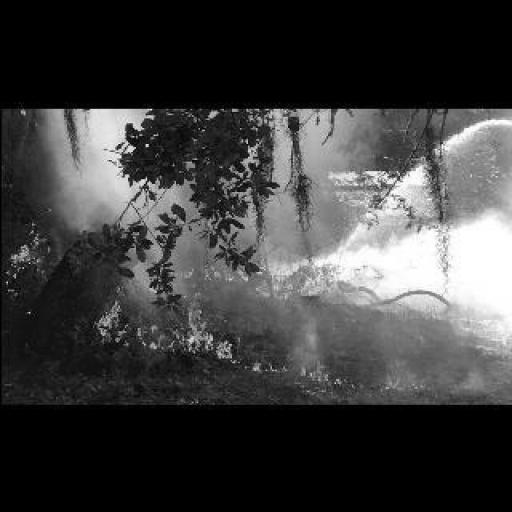smoke: (94, 296, 240, 365), (5, 221, 51, 293), (302, 362, 352, 387), (382, 372, 430, 394), (252, 356, 286, 374)
